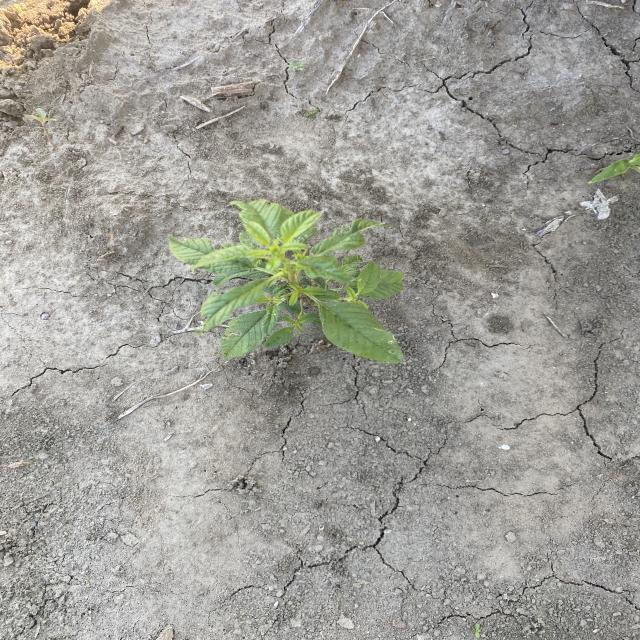Waterhemp: (166, 196, 410, 366)
